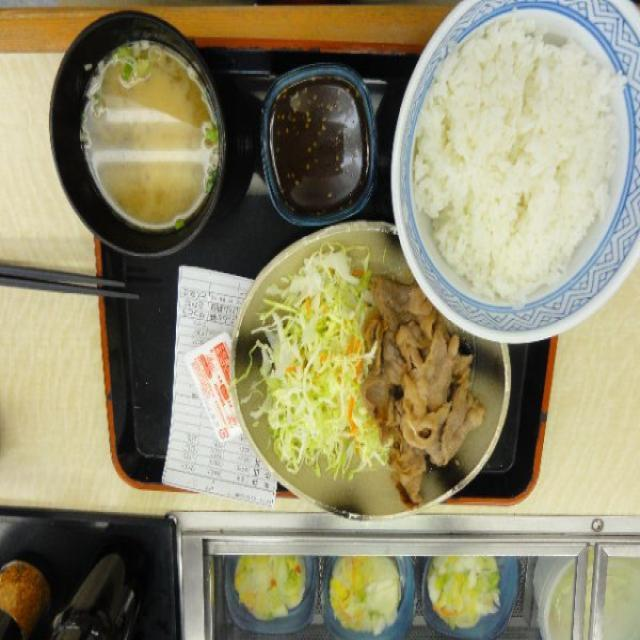Rice: (412, 29, 614, 298)
